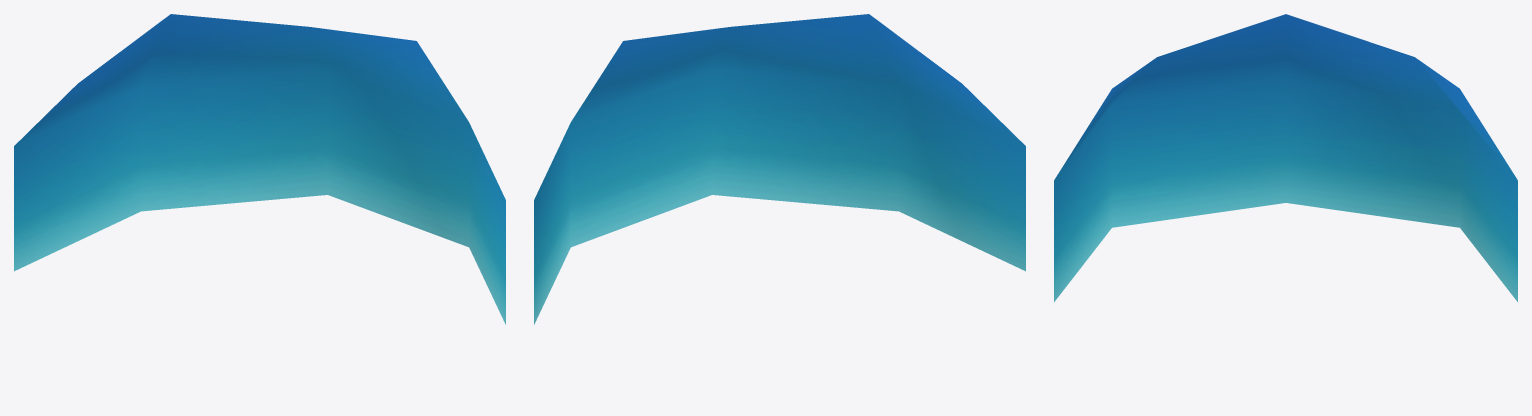
Rendered from 01_enviro_skydome.glb.
3 views of the same model, side by side, from view 1: azimuth 30°, elevation 25°; view 2: azimuth 150°, elevation 25°; view 3: azimuth 270°, elevation 25° (orthographic). The views are drawn at different scales.
Parts seen in each view (by area): view 1: env_sky; view 2: env_sky; view 3: env_sky.
Part boxes in pixels (box(x1,y1,x2,y2)): env_sky: box(14, 14, 505, 324); env_sky: box(534, 14, 1025, 324); env_sky: box(1054, 14, 1517, 301).
Size of the model in its own units: 1164 by 666 by 1146.
1 material, 1 textured.
